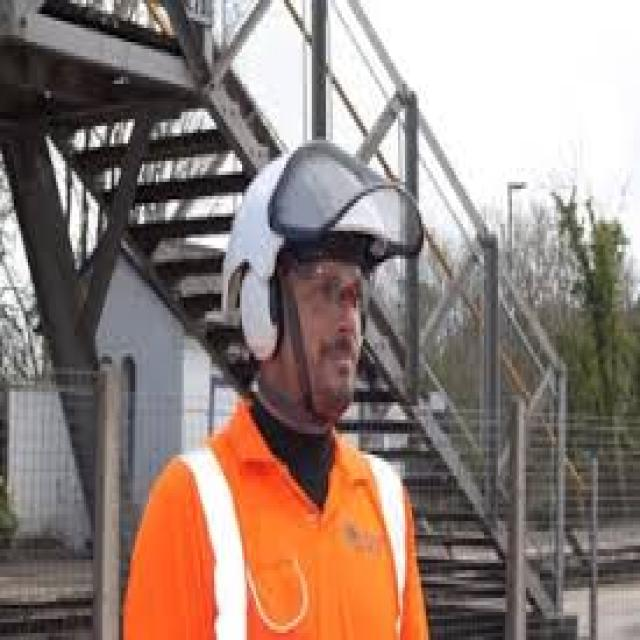Ear-Protection: (228, 262, 286, 364)
Helmet: (212, 144, 398, 276)
